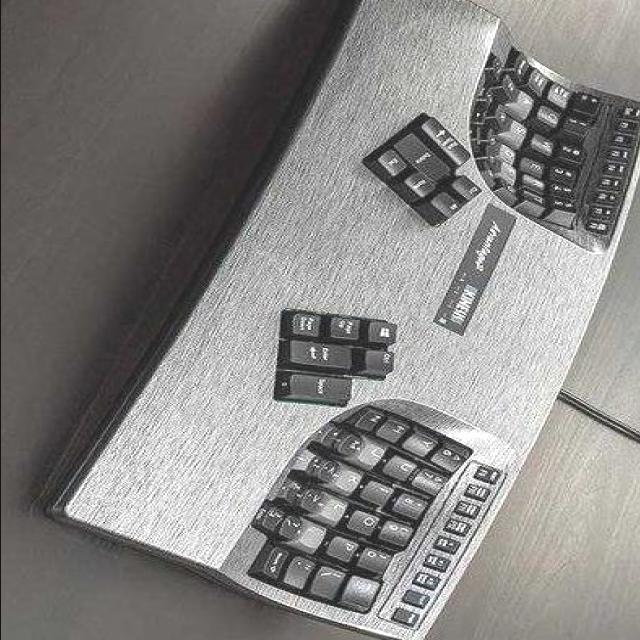keyboard: (32, 0, 640, 640)
